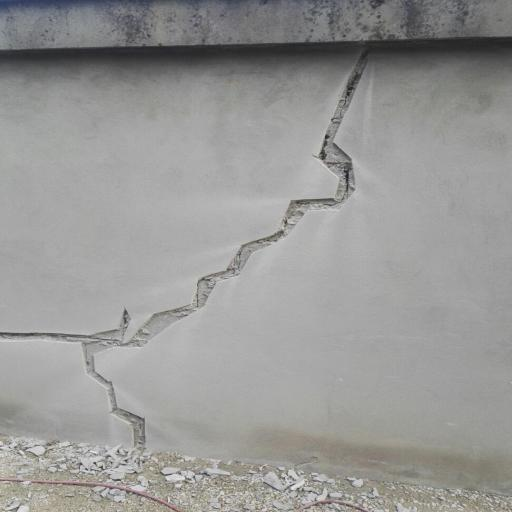spalling: (6, 55, 382, 446)
